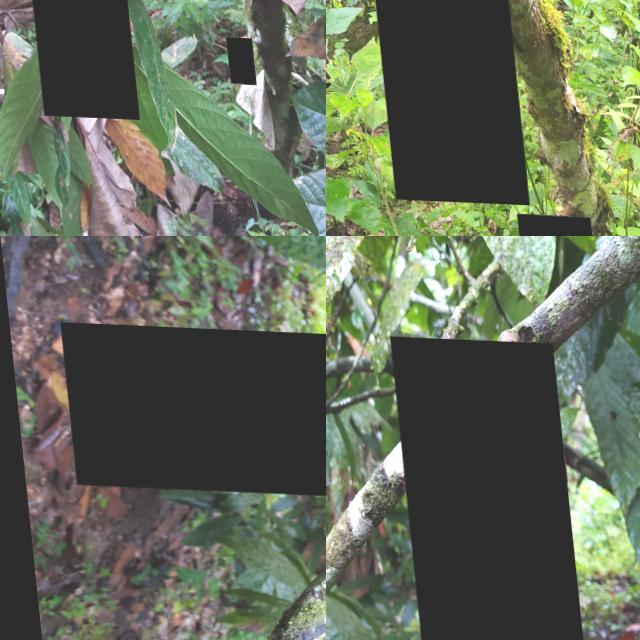Fitoftora: (10, 0, 128, 116)
Monilia: (388, 333, 589, 640), (55, 321, 326, 501)
Sana: (357, 0, 521, 202), (217, 33, 247, 81)
